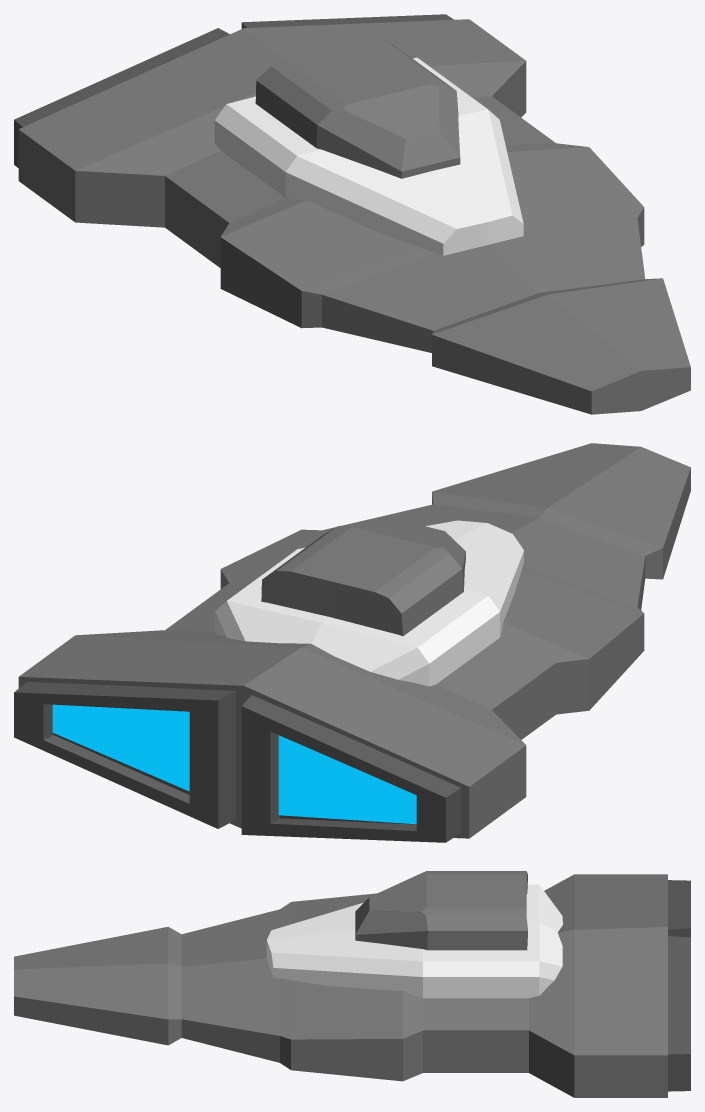
Rendered from ship.glb.
3 views of the same model, one above another, from view 1: azimuth 30°, elevation 25°; view 2: azimuth 150°, elevation 25°; view 3: azimuth 270°, elevation 25° (orthographic). The views are drawn at different scales.
Visible parts, largest first — view 1: Cube, Cube.002, Cube.003, Cube.001; view 2: Cube, Cube.001, Cube.002, Cube.003, Plane.001, Plane; view 3: Cube, Cube.002, Cube.003, Cube.001.
Part boxes in pixels (<box>): Cube: <box>18,19,690,414</box>; Cube.002: <box>214,57,523,255</box>; Cube.003: <box>255,39,460,178</box>; Cube.001: <box>14,14,453,167</box>; Cube: <box>18,443,690,838</box>; Cube.001: <box>14,682,461,842</box>; Cube.002: <box>215,520,523,686</box>; Cube.003: <box>261,523,465,636</box>; Plane.001: <box>278,735,416,824</box>; Plane: <box>52,704,189,791</box>; Cube: <box>14,874,667,1097</box>; Cube.002: <box>266,884,562,998</box>; Cube.003: <box>355,871,527,950</box>; Cube.001: <box>668,880,690,1091</box>.
Bounding box in the file's own units: 7.94 × 3.12 × 12.54.
